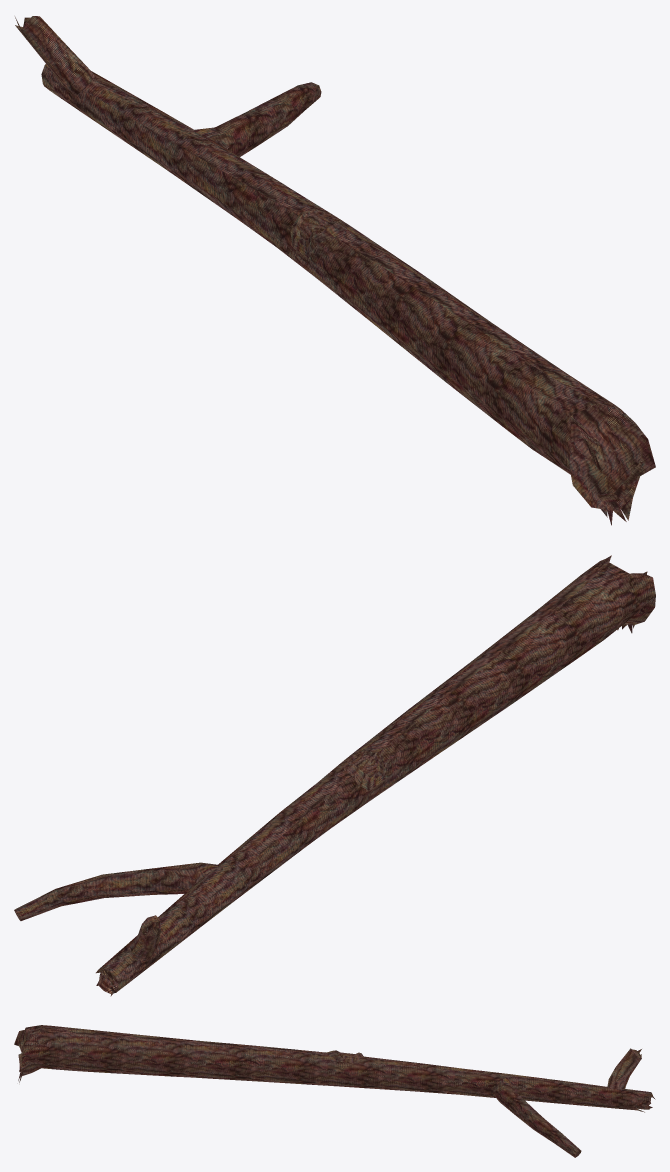
Rendered from fallentree_tree.glb.
3 renders of one model, top to bottom at view 1: azimuth 30°, elevation 25°; view 2: azimuth 150°, elevation 25°; view 3: azimuth 270°, elevation 25°, orthographic. The views are drawn at different scales.
Visible parts, largest first — view 1: BustedTree; view 2: BustedTree; view 3: BustedTree.
Part boxes in pixels (bbox=[...]): BustedTree: bbox=[15, 16, 655, 525]; BustedTree: bbox=[14, 555, 655, 996]; BustedTree: bbox=[14, 1025, 655, 1157].
Size of the model in its own units: 5.38 by 2.49 by 20.25.
Materials: 1 (1 with a texture image).
